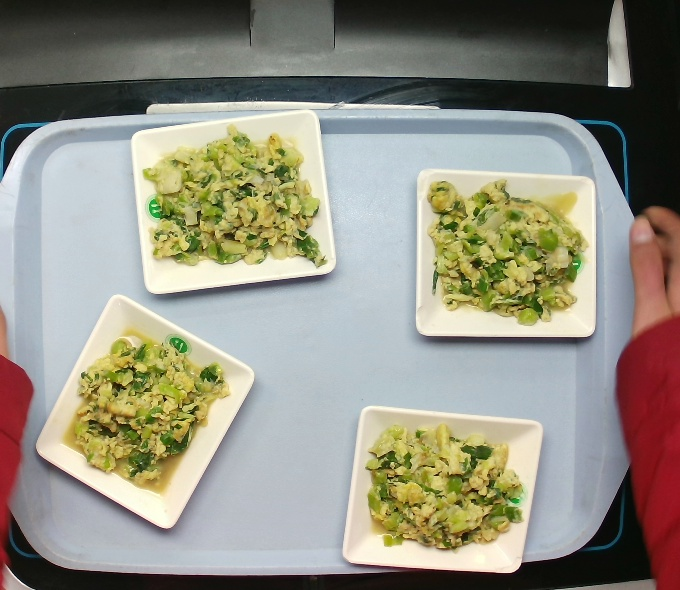wcq-SuanMiaoChaoDan: (67, 331, 230, 487), (427, 176, 584, 324), (158, 123, 315, 271), (362, 427, 526, 558)
